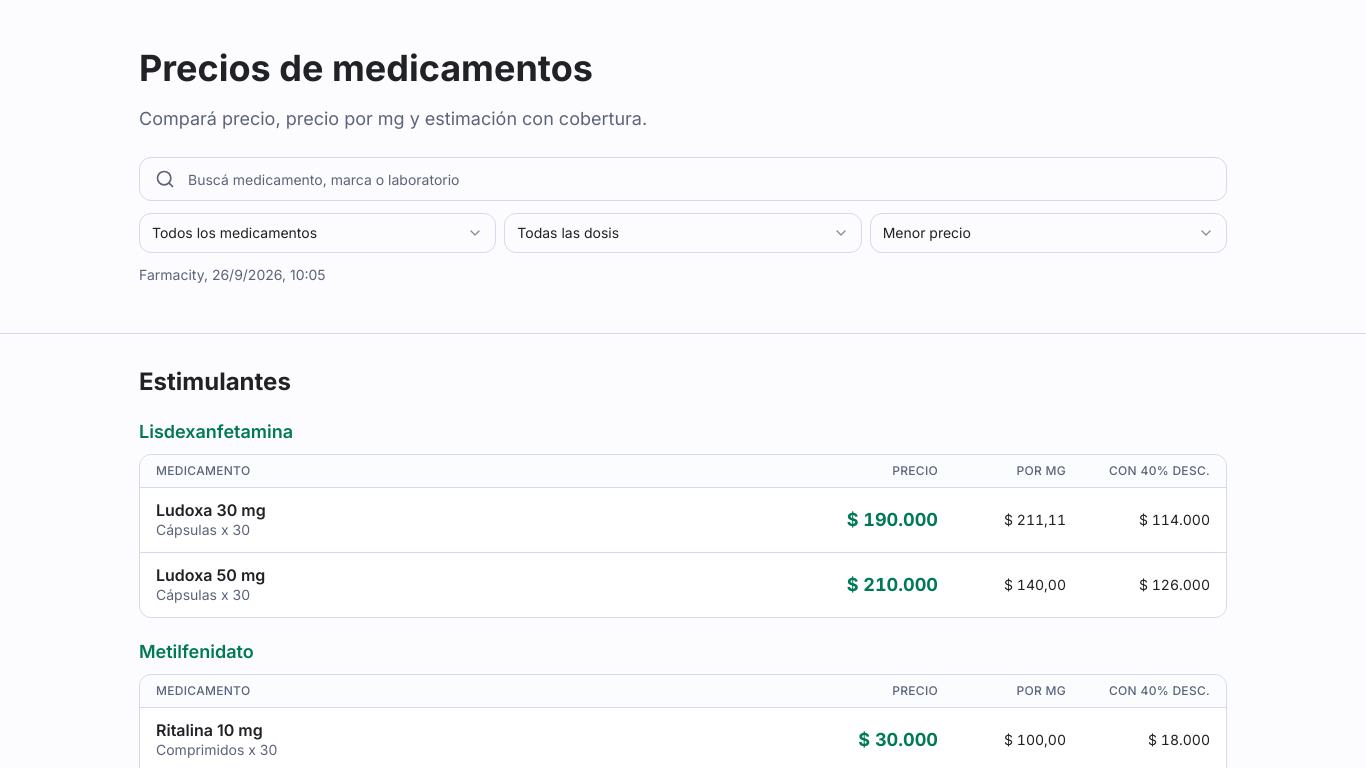
PricesClient › searches by name, brand or laboratory
Type "novartis" into the search field at (683, 179), box [139,157,1227,201]
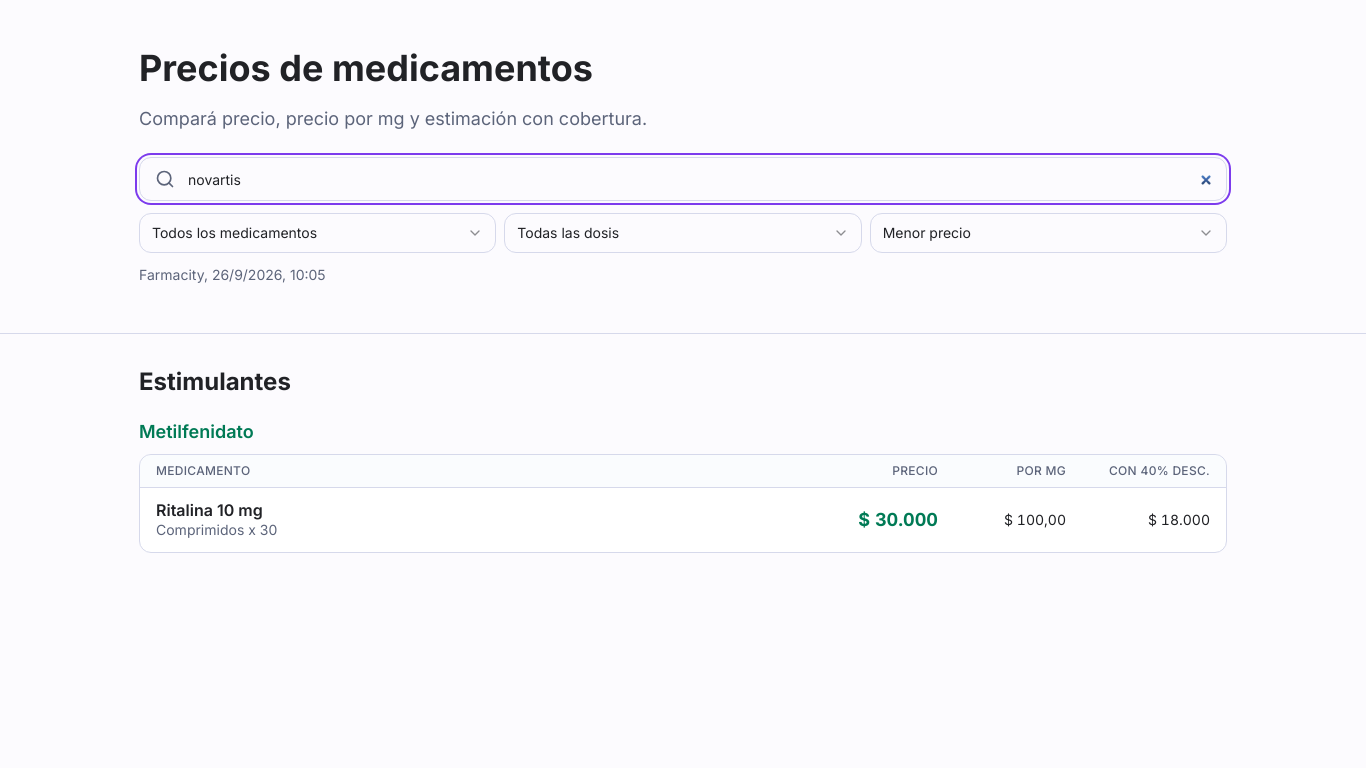
Expected: the text "Ritalina 10 mg" is shown, [156,500,263,520]
Expected: the number of list items is 1, [156,500,1210,538]
